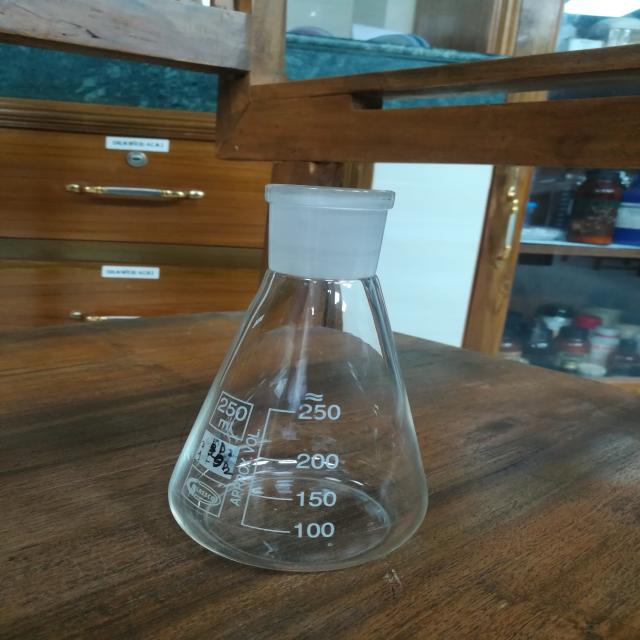Conical_Flask: (125, 156, 513, 606)
